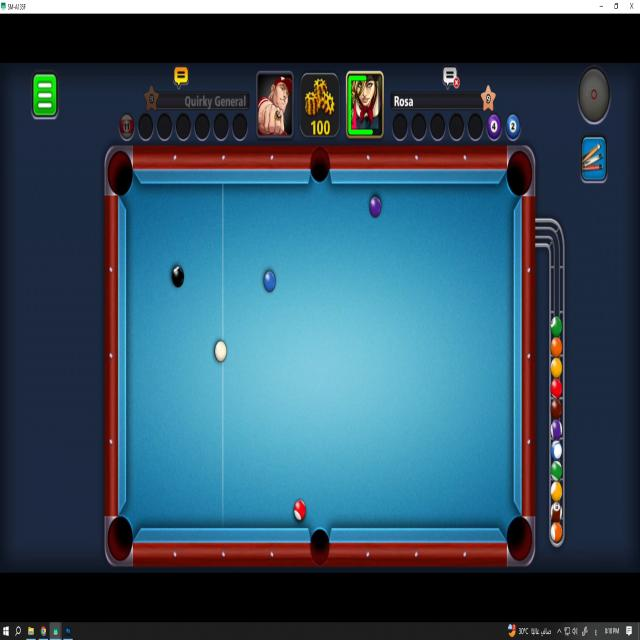object_ball: (369, 197, 381, 217), (172, 266, 183, 287), (264, 271, 275, 292), (294, 500, 305, 520)
white_cue_ball: (214, 340, 227, 363)
